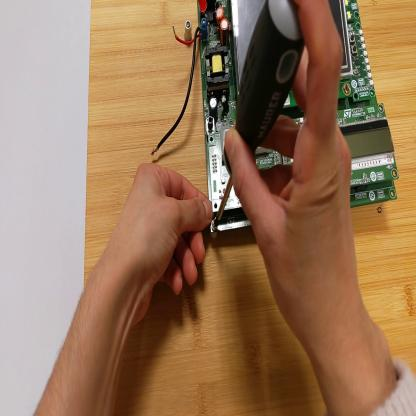hand: (228, 4, 365, 341), (110, 164, 216, 324)
low voltage board: (151, 4, 399, 238)
screwdriver-: (214, 2, 307, 228)
working area: (85, 1, 416, 416)
